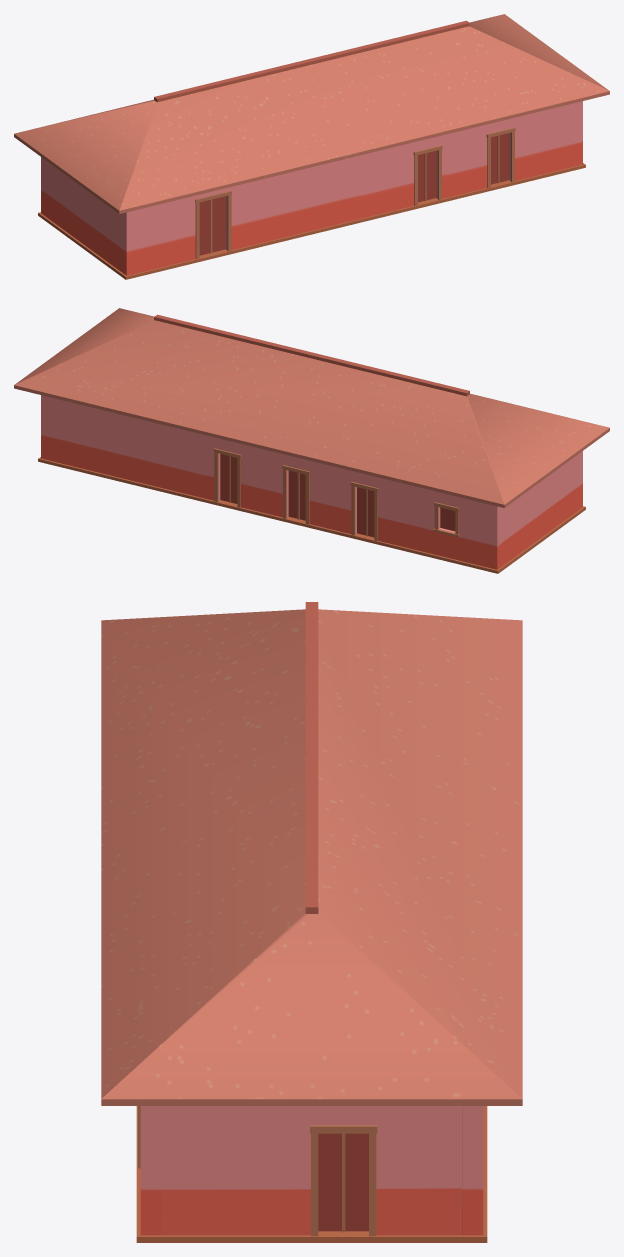
Rendered from casaexternafinal.fbx.
3 views of the same model, one above another, from view 1: azimuth 30°, elevation 25°; view 2: azimuth 150°, elevation 25°; view 3: azimuth 270°, elevation 25° (orthographic). The views are drawn at different scales.
Parts seen in each view (by area): view 1: cubierta, muro_frente, muro_culataO, cimiento, cumbrera, puerta_F1_hoja, puerta_F3_hoja, puerta_F2_hoja; view 2: cubierta, muro_posterior, muro_culataO, cimiento, cumbrera, puerta_P3_hoja, puerta_P2_hoja, puerta_P1_hoja; view 3: cubierta, muro_culataE, puerta_C1_hoja, cumbrera, cimiento, muro_frente, muro_posterior.
Part boxes in pixels (x1,y1,x2,y2): cubierta: [14, 14, 609, 213]; muro_frente: [121, 101, 582, 275]; muro_culataO: [46, 161, 121, 271]; cimiento: [38, 163, 585, 279]; cumbrera: [154, 20, 469, 102]; puerta_F1_hoja: [199, 196, 225, 255]; puerta_F3_hoja: [491, 133, 509, 184]; puerta_F2_hoja: [418, 151, 436, 202]; cubierta: [14, 308, 609, 507]; muro_posterior: [41, 395, 502, 569]; muro_culataO: [502, 455, 577, 565]; cimiento: [38, 457, 585, 573]; cumbrera: [154, 314, 469, 396]; puerta_P3_hoja: [357, 487, 374, 537]; puerta_P2_hoja: [288, 470, 305, 520]; puerta_P1_hoja: [220, 454, 237, 503]; cubierta: [101, 609, 522, 1105]; muro_culataE: [161, 1106, 462, 1235]; puerta_C1_hoja: [318, 1133, 368, 1231]; cumbrera: [305, 602, 318, 913]; cimiento: [136, 1106, 487, 1242]; muro_frente: [140, 1106, 161, 1235]; muro_posterior: [462, 1106, 483, 1235].
Size of the model in its own units: 2150 by 552 by 800.
10 materials, 8 textured.
